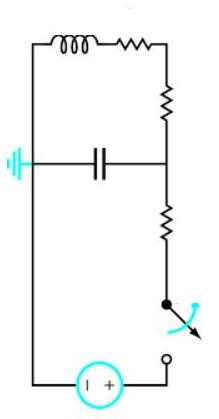resistor: (139, 63, 186, 147), (146, 191, 188, 262), (110, 27, 157, 62)
